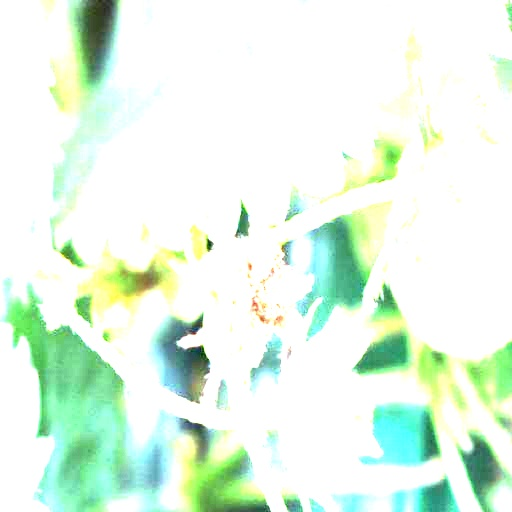Gray Mold: (159, 218, 313, 410)
